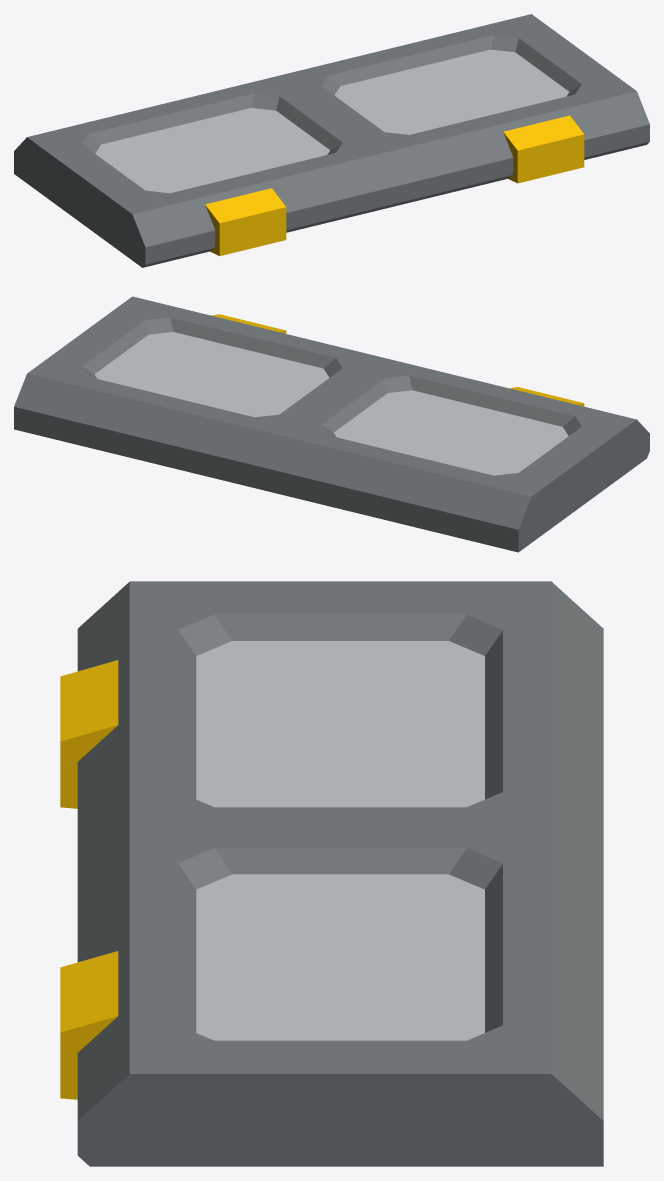
File: Crate_009_cap_001.fbx
3 views of the same model, one above another, from view 1: azimuth 30°, elevation 25°; view 2: azimuth 150°, elevation 25°; view 3: azimuth 270°, elevation 25° (orthographic). The views are drawn at different scales.
Parts seen in each view (by area): view 1: Crate_009_cap_001; view 2: Crate_009_cap_001; view 3: Crate_009_cap_001.
Boxes of the visible parts, x1,y1,x2,y2 form: Crate_009_cap_001: (14, 14, 649, 267); Crate_009_cap_001: (14, 296, 649, 552); Crate_009_cap_001: (60, 581, 603, 1166).
Size of the model in its own units: 96.46 by 44.96 by 8.47.
